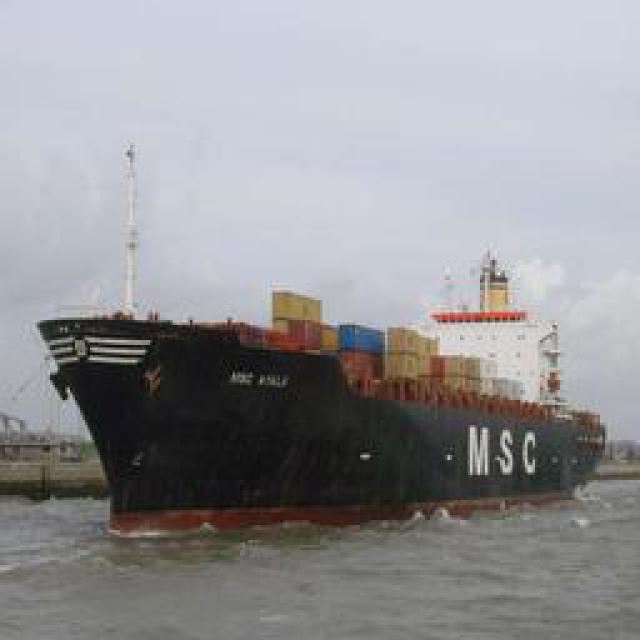Ship: (43, 266, 611, 521)
